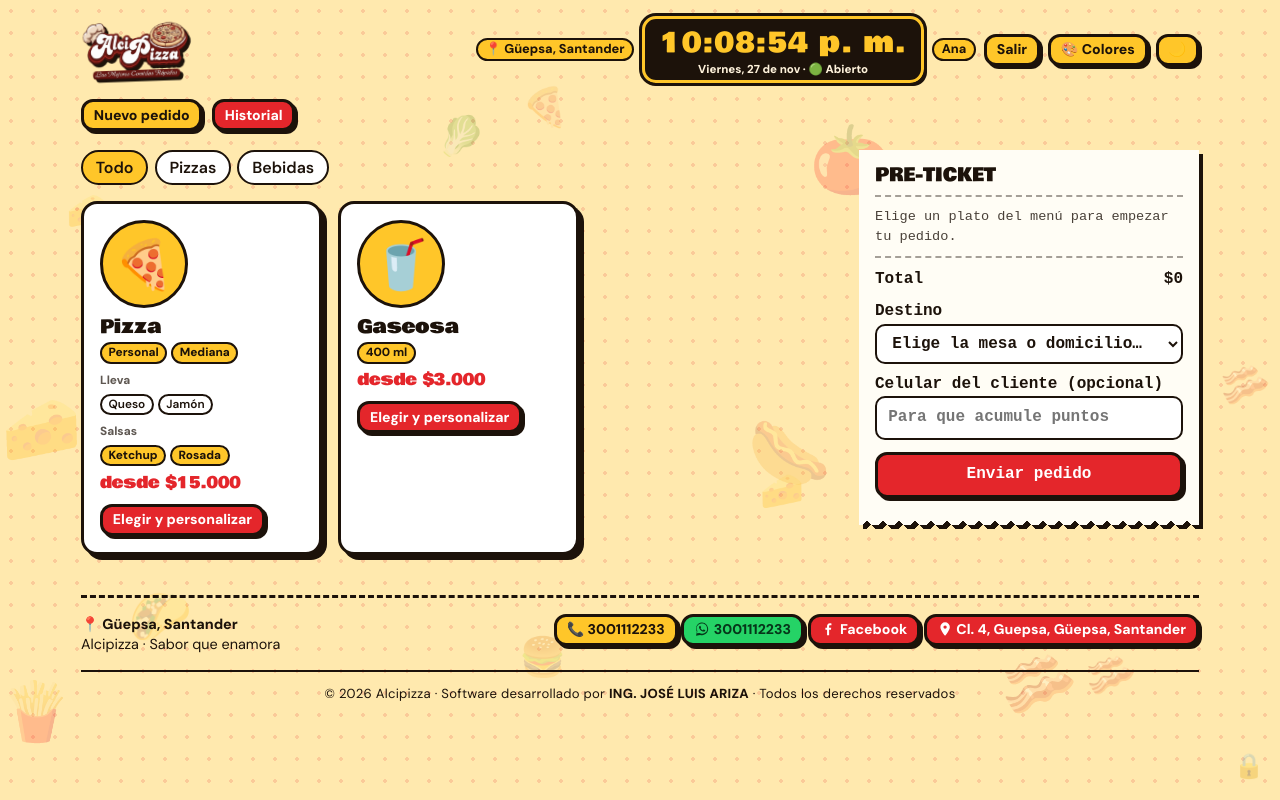
MeseraPage · nuevo pedido › las bebidas no muestran ingredientes ni "Pedir con todo"; quitar un ítem del pre-ticket
The image size is (1280, 800).
Click the button "Bebidas" at (283, 168), box 238,150 -> 329,186
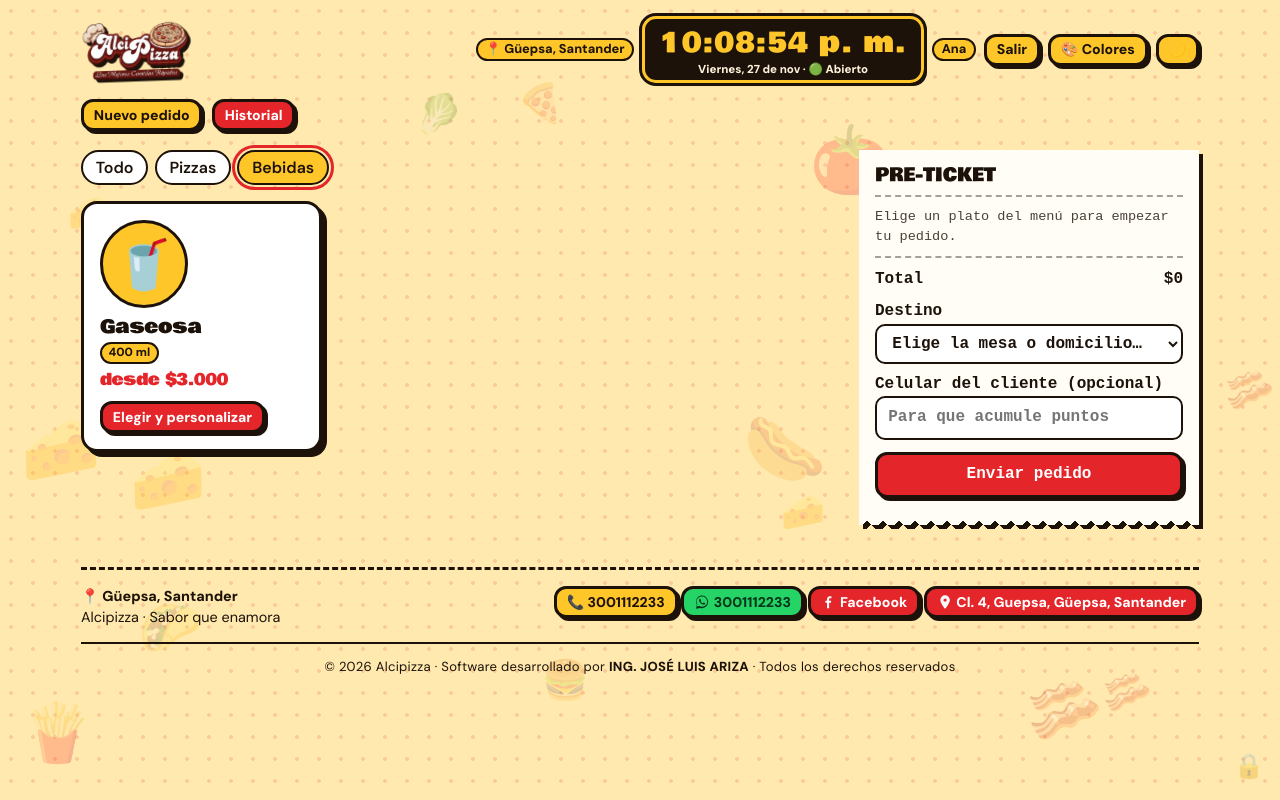
Click the button "Elegir y personalizar" at (182, 417), box 100,401 -> 265,433
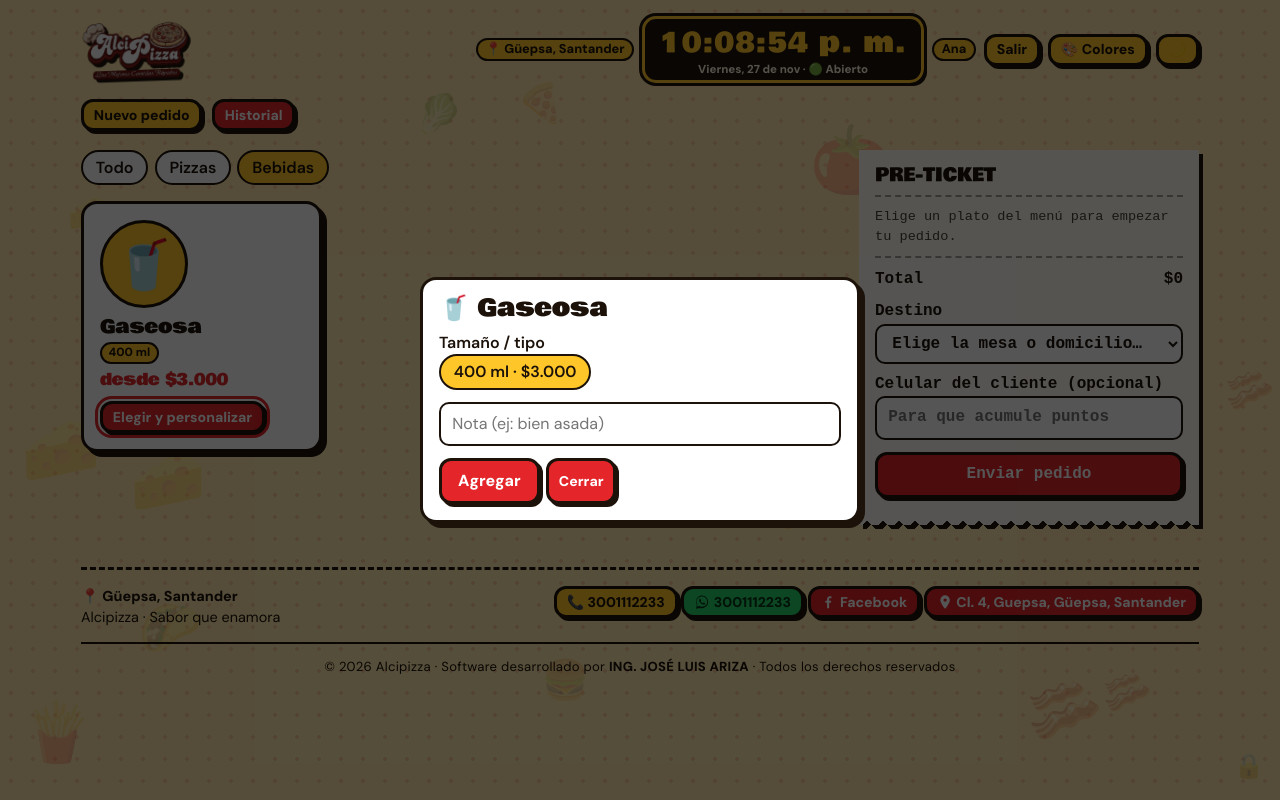
Click the button "Agregar" at (489, 481), box 439,458 -> 540,504
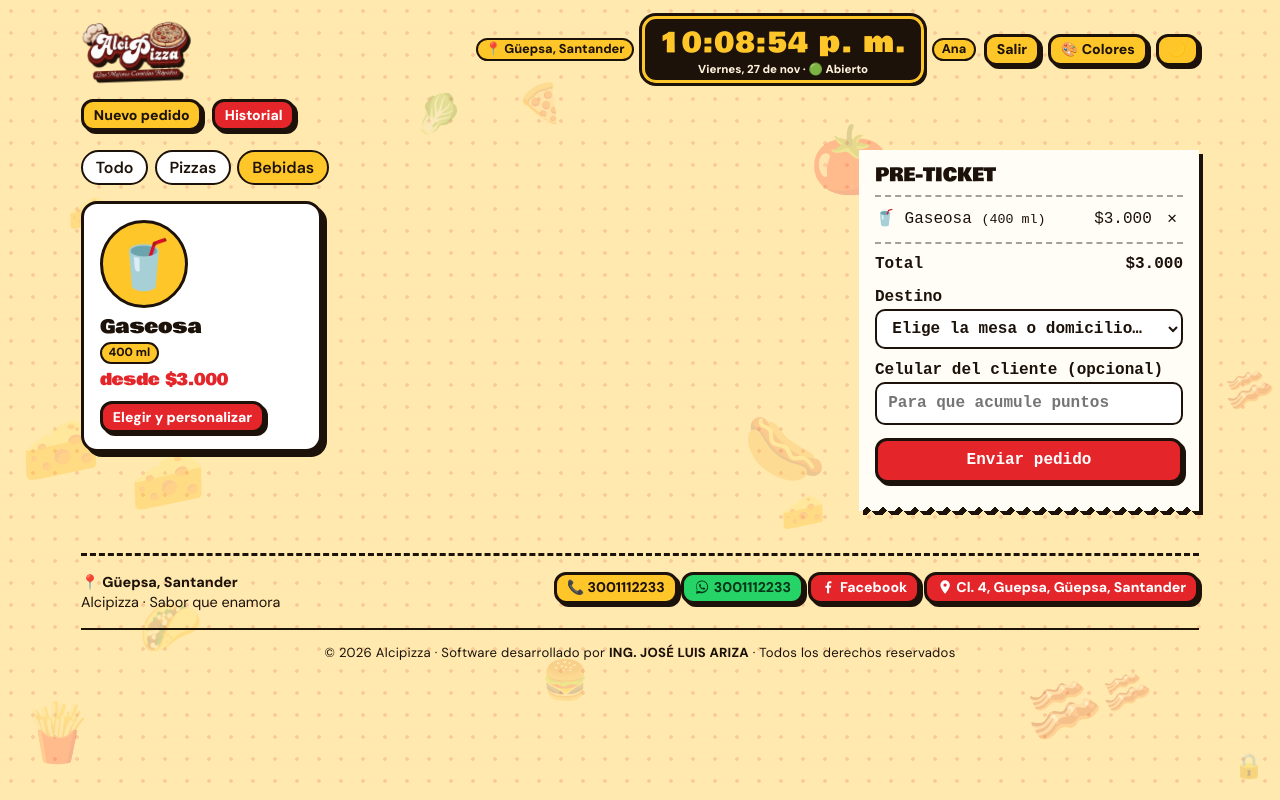
Result: the text "$3.000" is shown 2 times at 1094,207 -> 1183,232; 1125,254 -> 1183,277
Click the button named "Quitar" at (1172, 220), box 1161,207 -> 1183,232
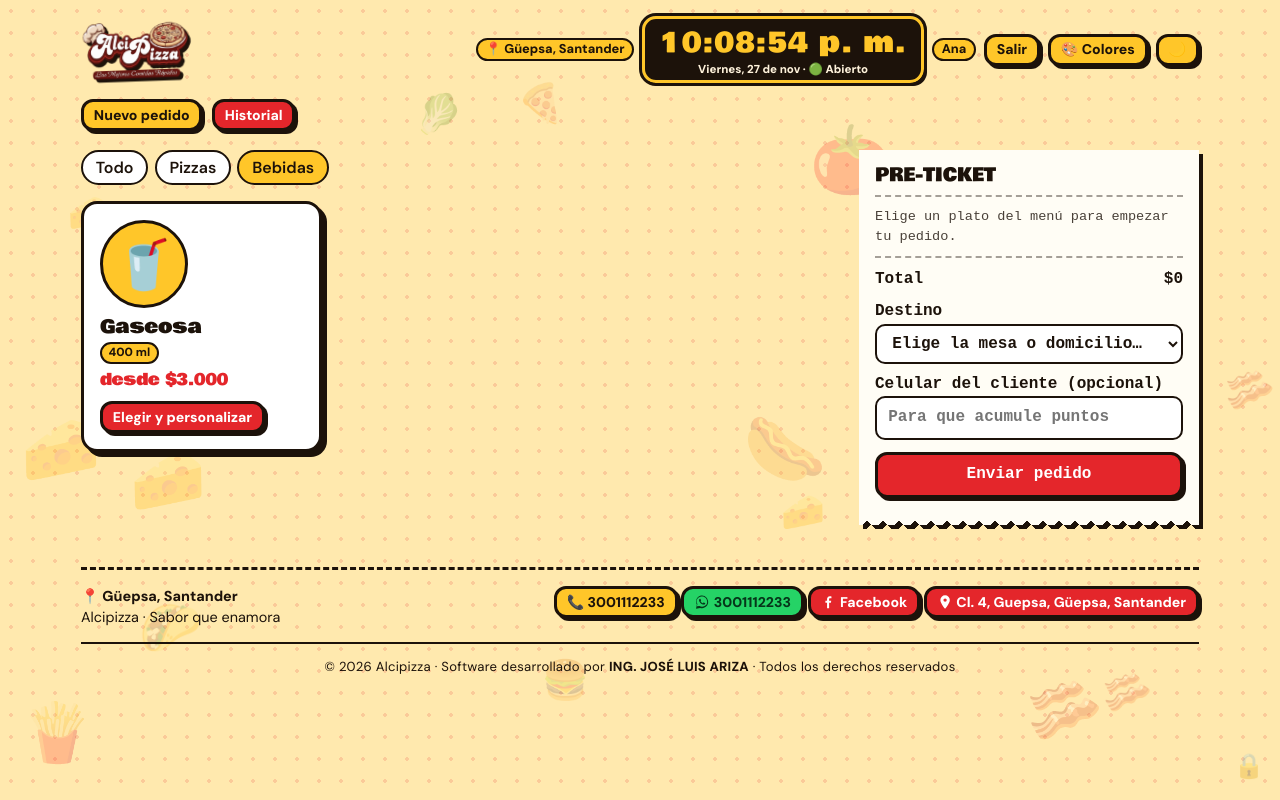
Result: the text "Elige un plato del menú para empezar tu pedido." is shown at 875,207 -> 1183,246
